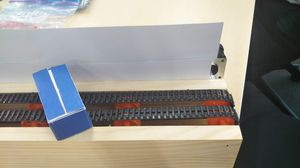box3: (30, 63, 92, 143)
